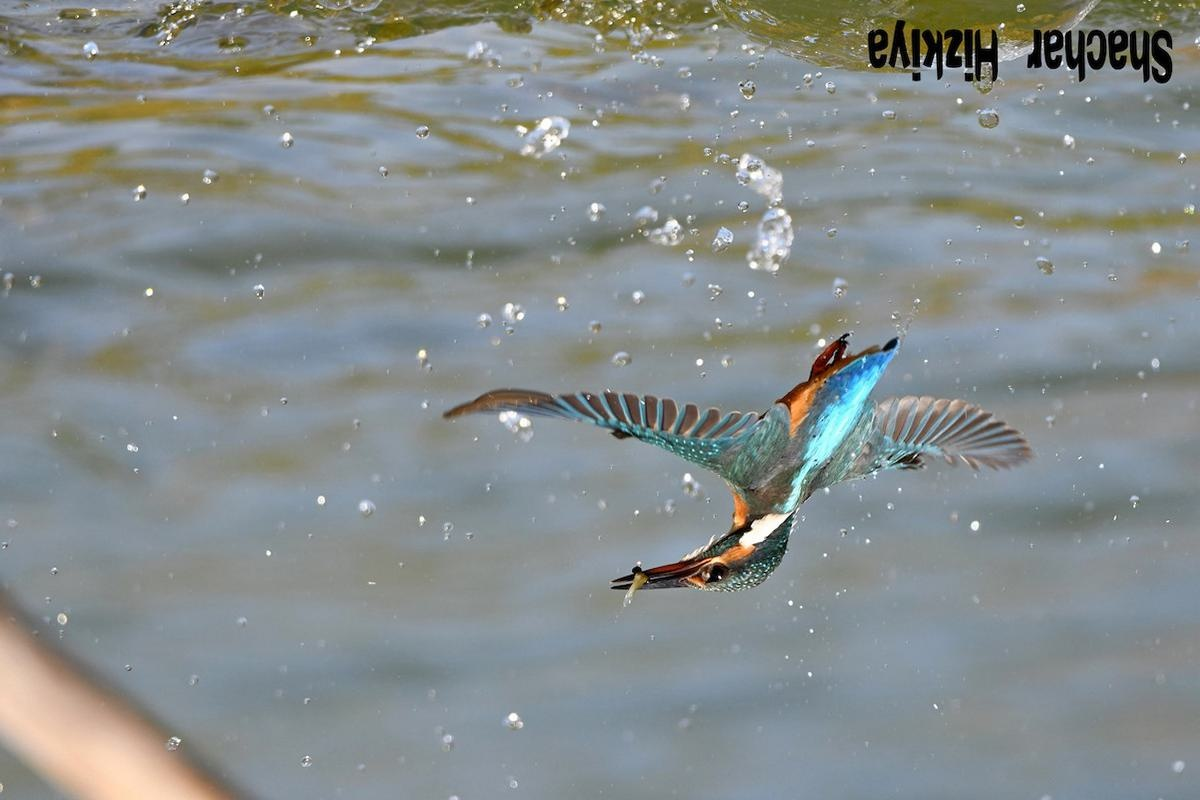kingfisher: (439, 325, 1044, 616)
